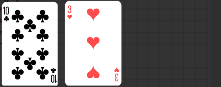10C: (2, 5, 10, 23)
